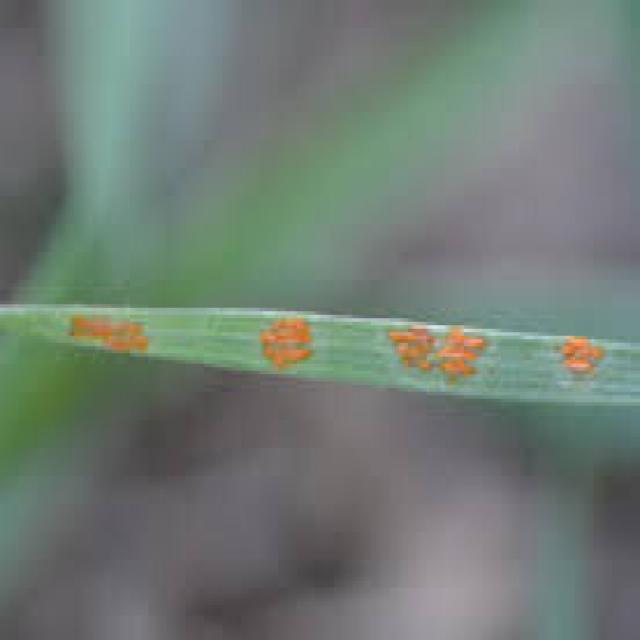wheat-stemrust: (8, 306, 632, 405)
